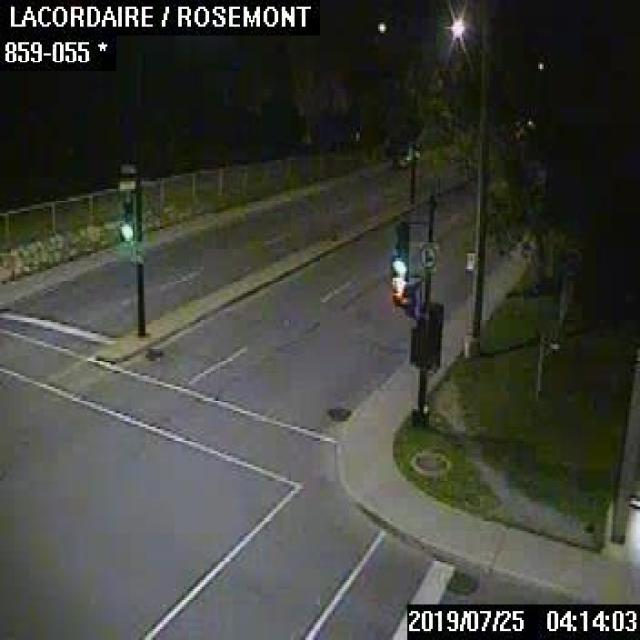vehicle: (387, 143, 419, 169)
